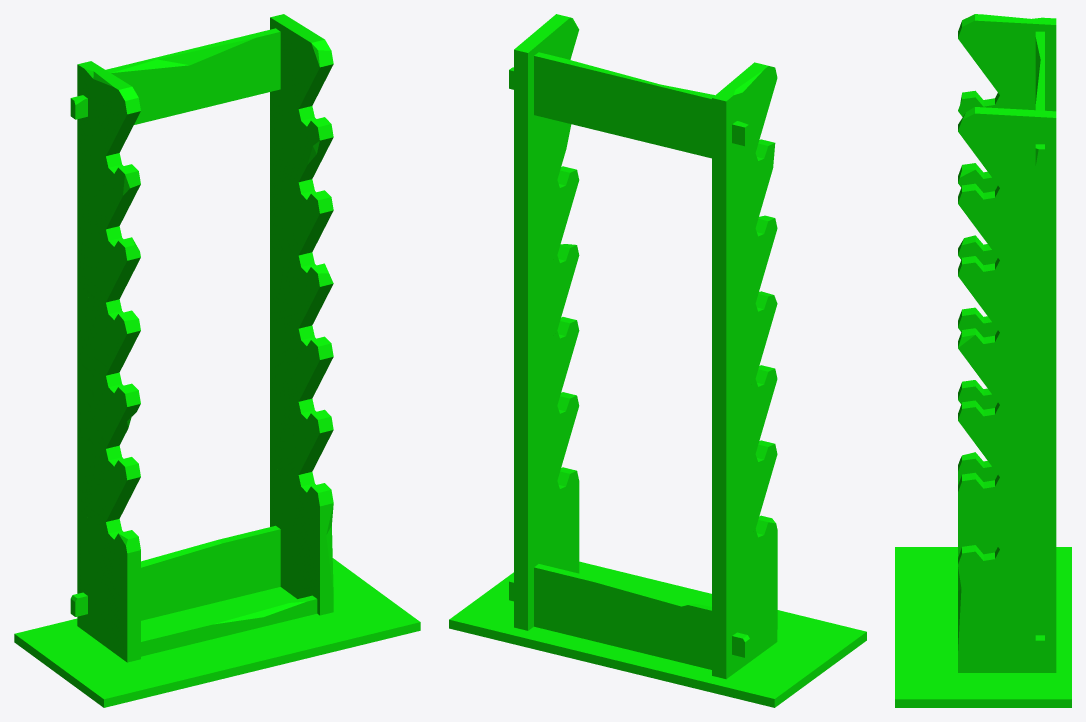
File: SM_Rack_Bow_Fantasy.fbx
3 views of the same model, side by side, from view 1: azimuth 30°, elevation 25°; view 2: azimuth 150°, elevation 25°; view 3: azimuth 270°, elevation 25° (orthographic). The views are drawn at different scales.
Visible parts, largest first — view 1: rack-bow-fantasy; view 2: rack-bow-fantasy; view 3: rack-bow-fantasy.
Boxes of the visible parts, x1,y1,x2,y2 form: rack-bow-fantasy: (14,14,420,707); rack-bow-fantasy: (449,14,866,707); rack-bow-fantasy: (895,14,1071,707).
Size of the model in its own units: 1.15 by 2 by 0.5633.
